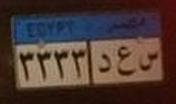3: (70, 49, 87, 77), (53, 49, 69, 77), (19, 51, 35, 79), (35, 52, 51, 78)
ain: (116, 45, 133, 77)
daal: (99, 53, 113, 73)
seen: (136, 47, 162, 72)
